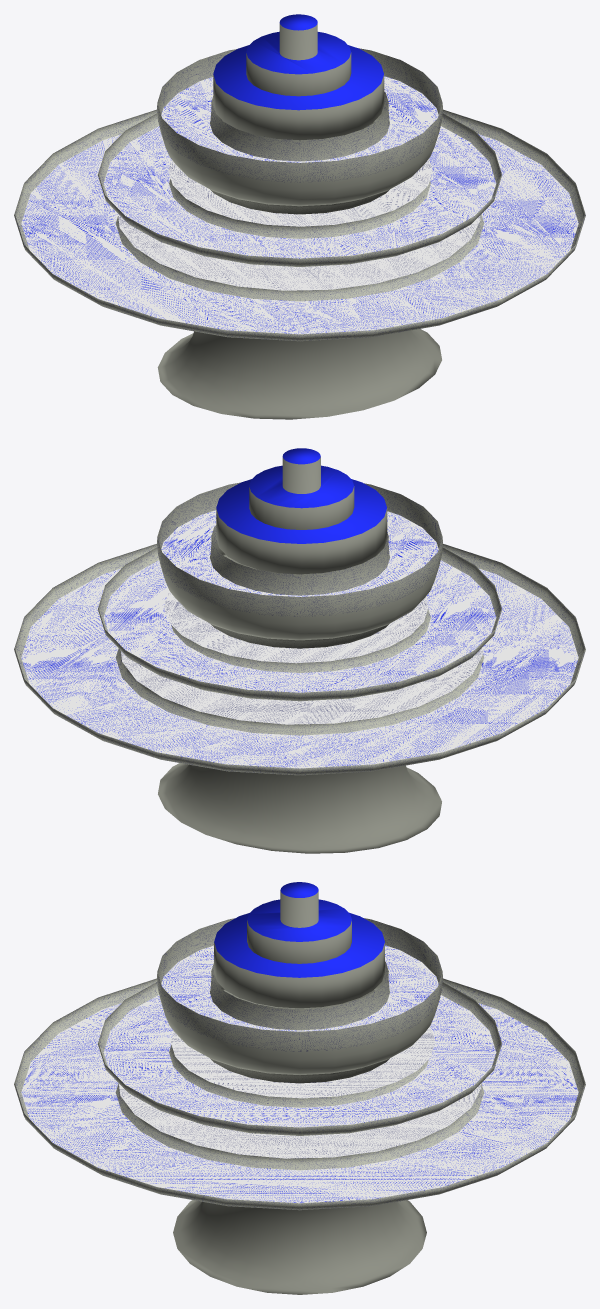
The model's file is mahonFountain.dae.
3 views of the same model, one above another, from view 1: azimuth 30°, elevation 25°; view 2: azimuth 150°, elevation 25°; view 3: azimuth 270°, elevation 25° (orthographic).
Visible parts, largest first — view 1: SketchUp (×19); view 2: SketchUp (×19); view 3: SketchUp (×19).
Part boxes in pixels (box(x1,y1,x2,y2)): SketchUp (×19): box(14, 23, 585, 419); SketchUp (×19): box(14, 456, 585, 853); SketchUp (×19): box(14, 890, 585, 1294).
Bounding box in the file's own units: 82.75 × 82.75 × 54.58.
